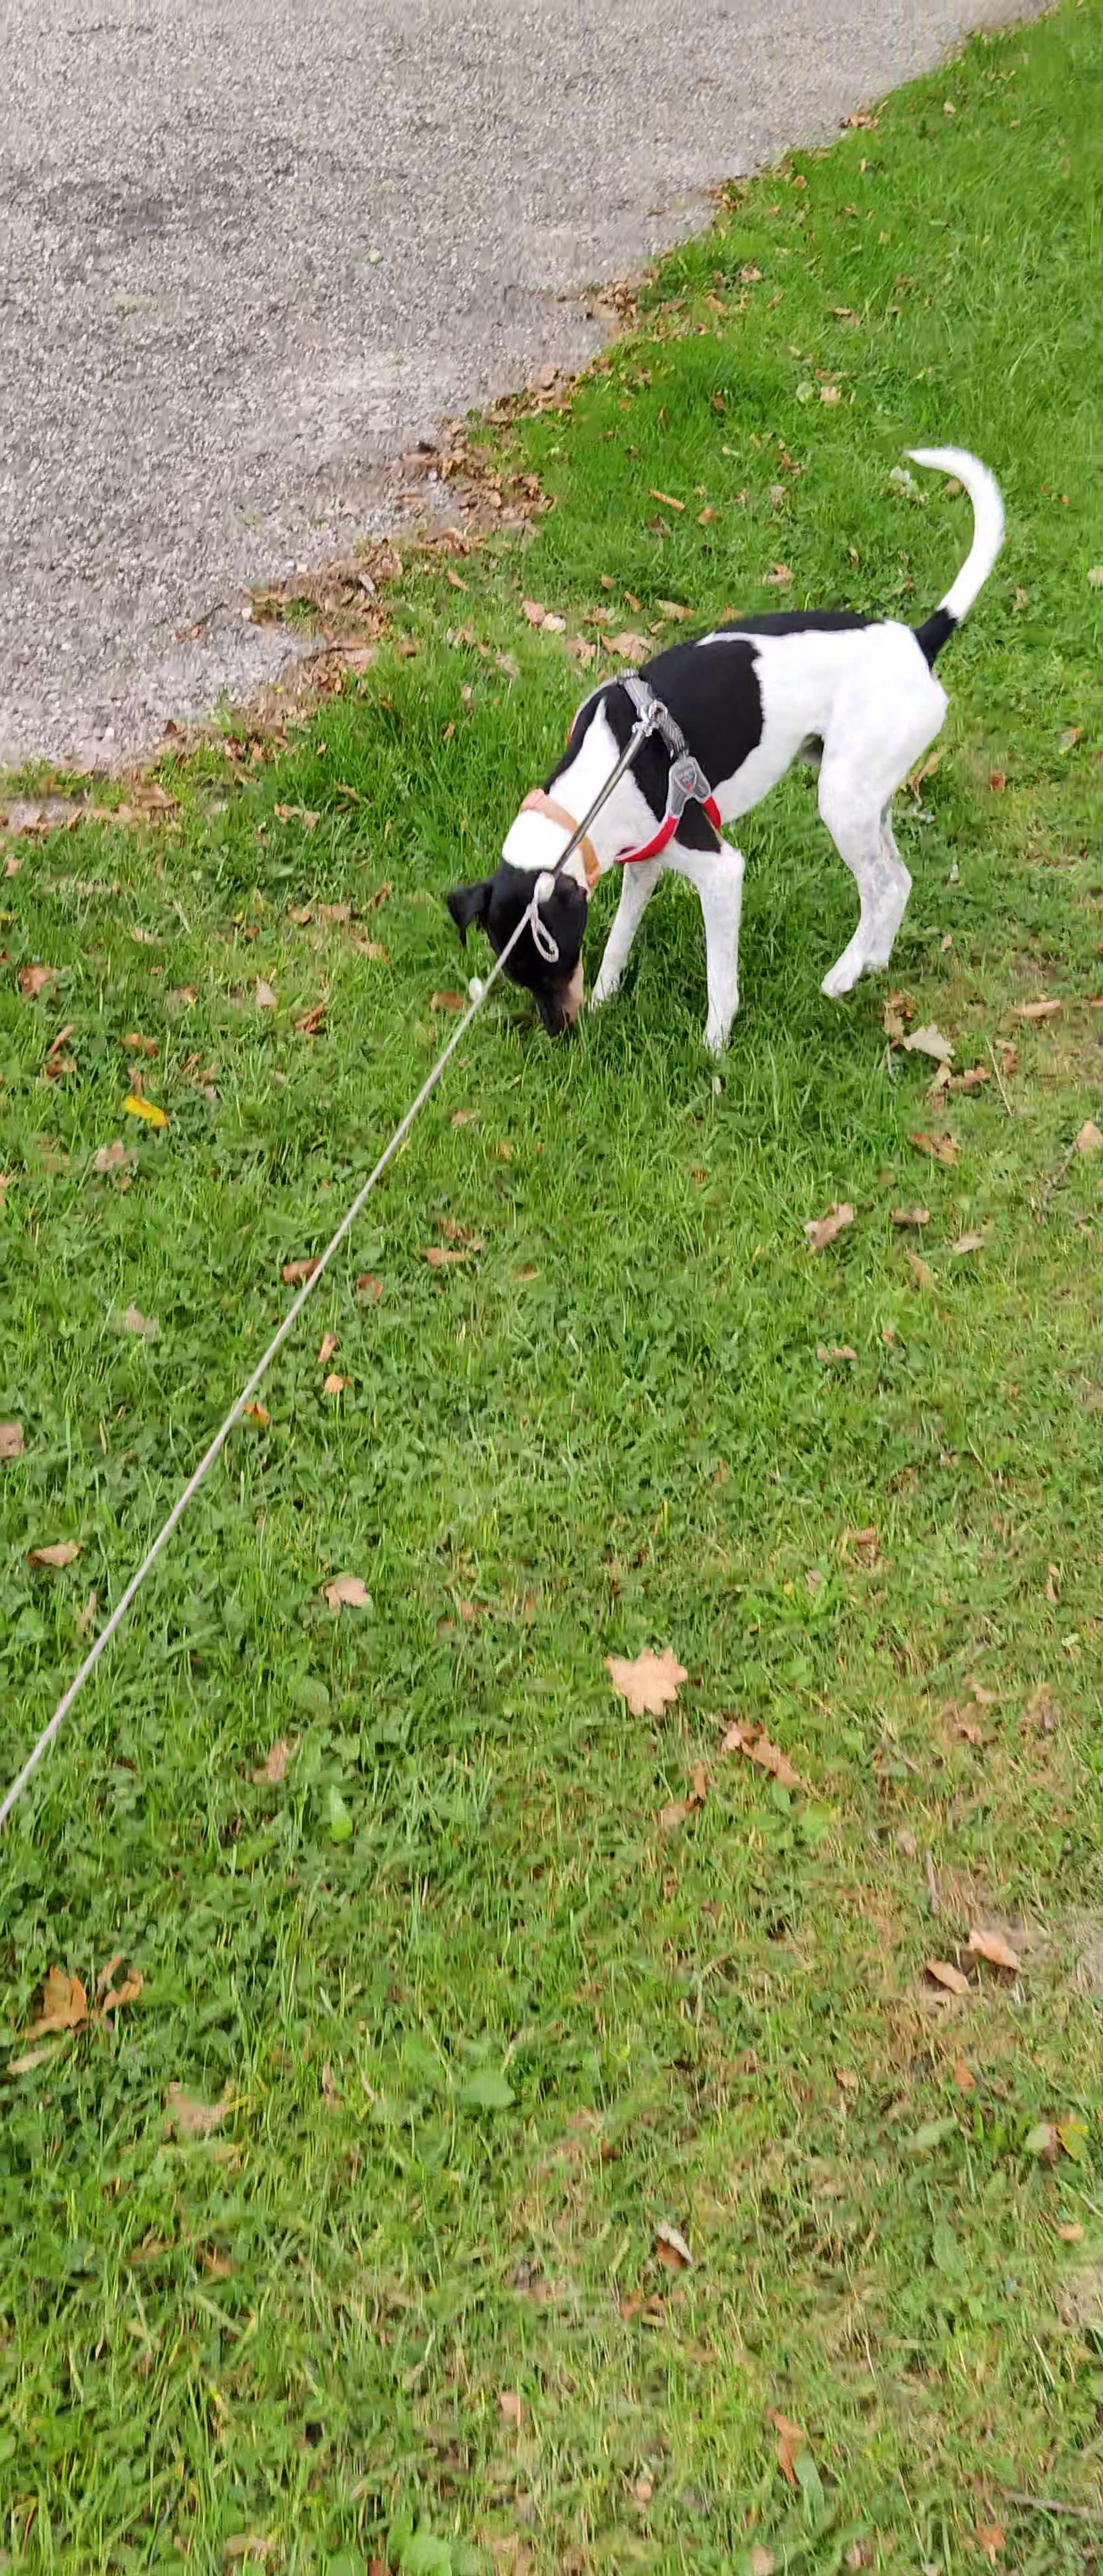Dog: (427, 434, 1029, 1042)
